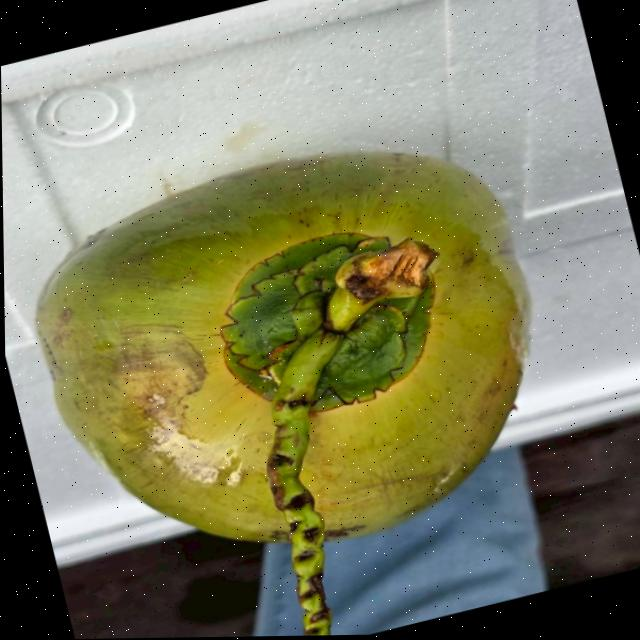coco_2.0: (160, 188, 490, 463)
